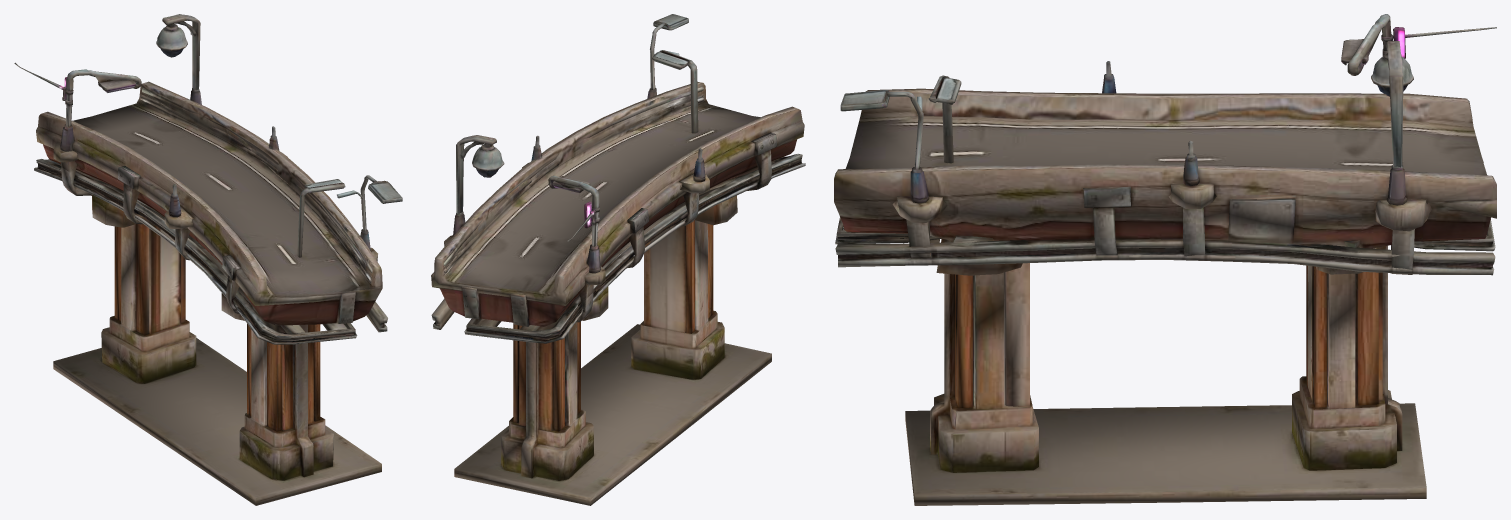
File: city_flyover.glb
The picture shows the model from 3 angles, left to right: view 1: azimuth 30°, elevation 25°; view 2: azimuth 150°, elevation 25°; view 3: azimuth 270°, elevation 25°; orthographic projection. The views are drawn at different scales.
Visible parts, largest first — view 1: Body; view 2: Body; view 3: Body.
Boxes of the visible parts, <box> form: Body: <box>14,14,402,505</box>; Body: <box>431,14,805,505</box>; Body: <box>834,14,1496,505</box>.
Size of the model in its own units: 10 by 20.05 by 27.33.
2 materials, 2 textured.
